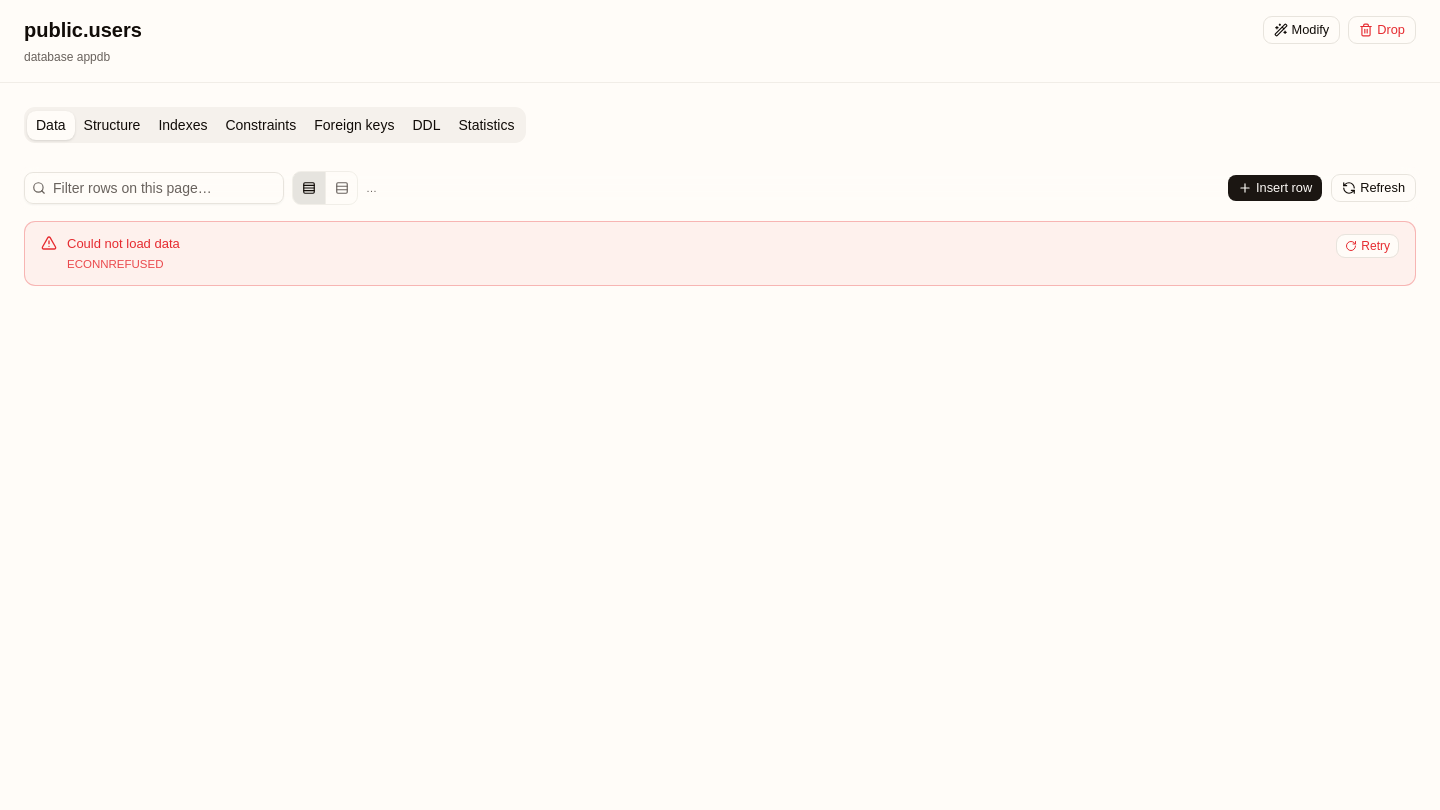
Test: postgres TableDetailClient (characterization) › applying a table modification after the data view failed re-fetches and clears the stale error
This screenshot has width=1440, height=810.
Expected: the message shows "Could not load data", [67,236,180,251]
Step 1. Click the button "Modify" → (1301, 30), box [1262,16,1340,44]
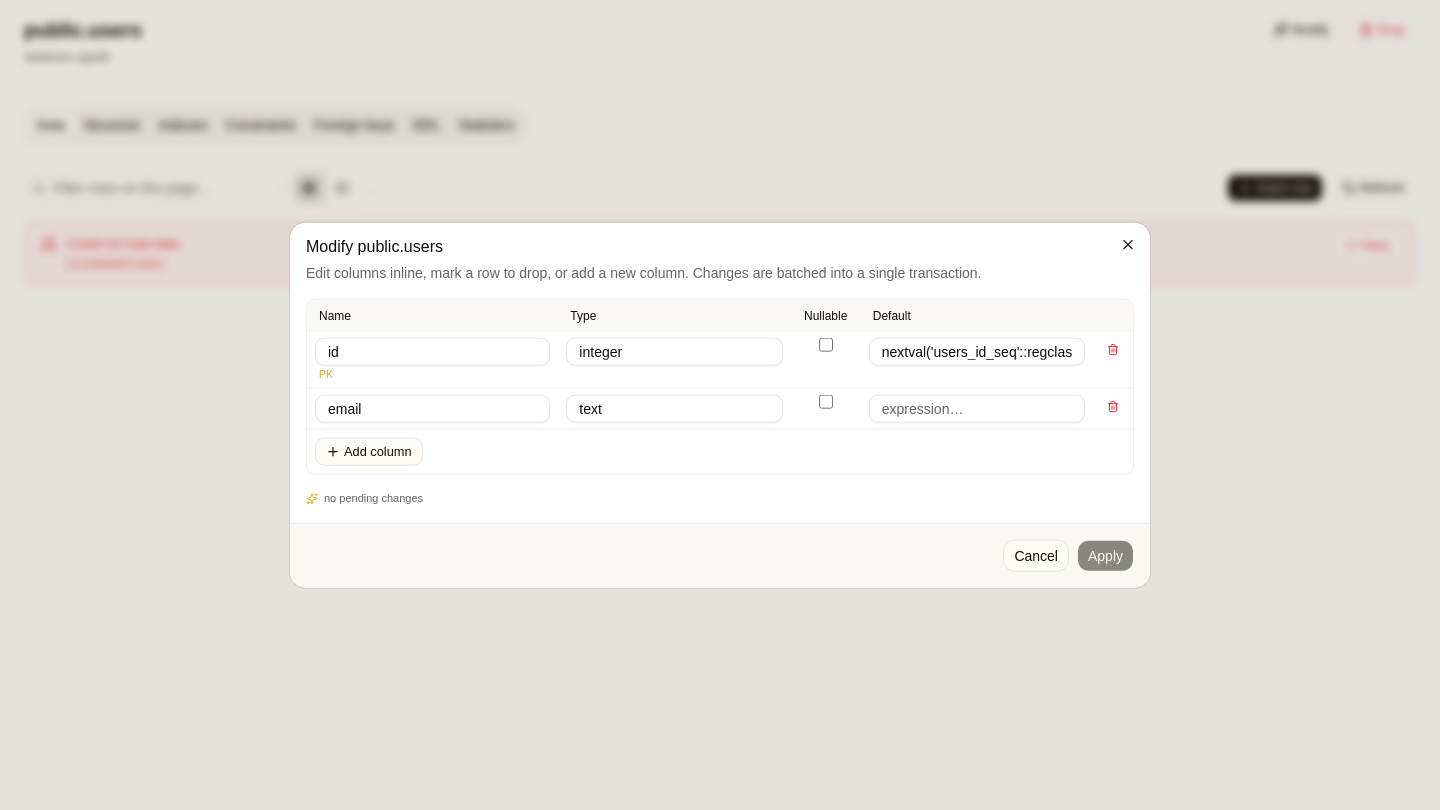
Step 2. Click the 2nd button titled "Drop column on apply" → (1113, 407), box [1101,395,1125,419]
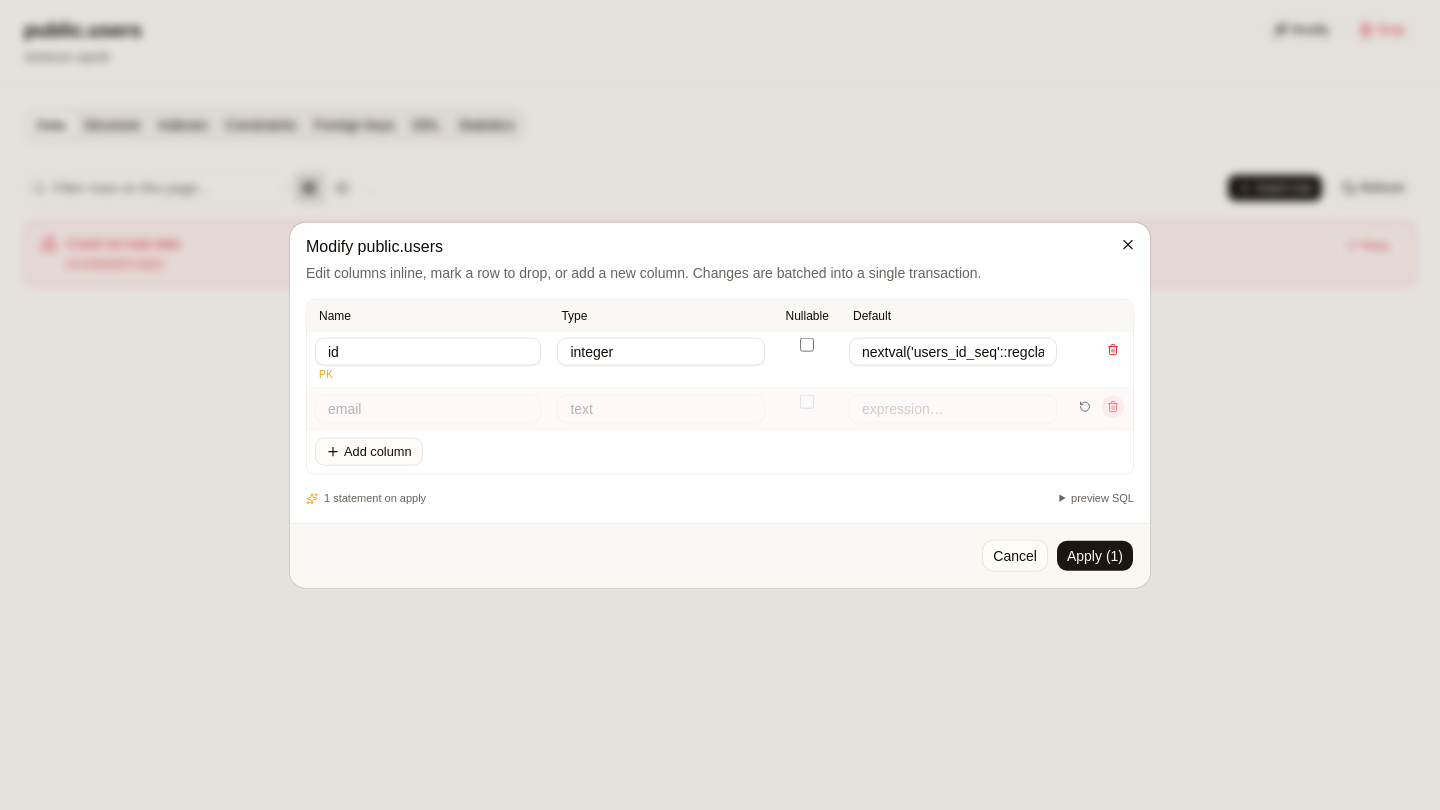
Step 3. Click the button "Apply (1)" → (1095, 555), box [1056,539,1134,571]
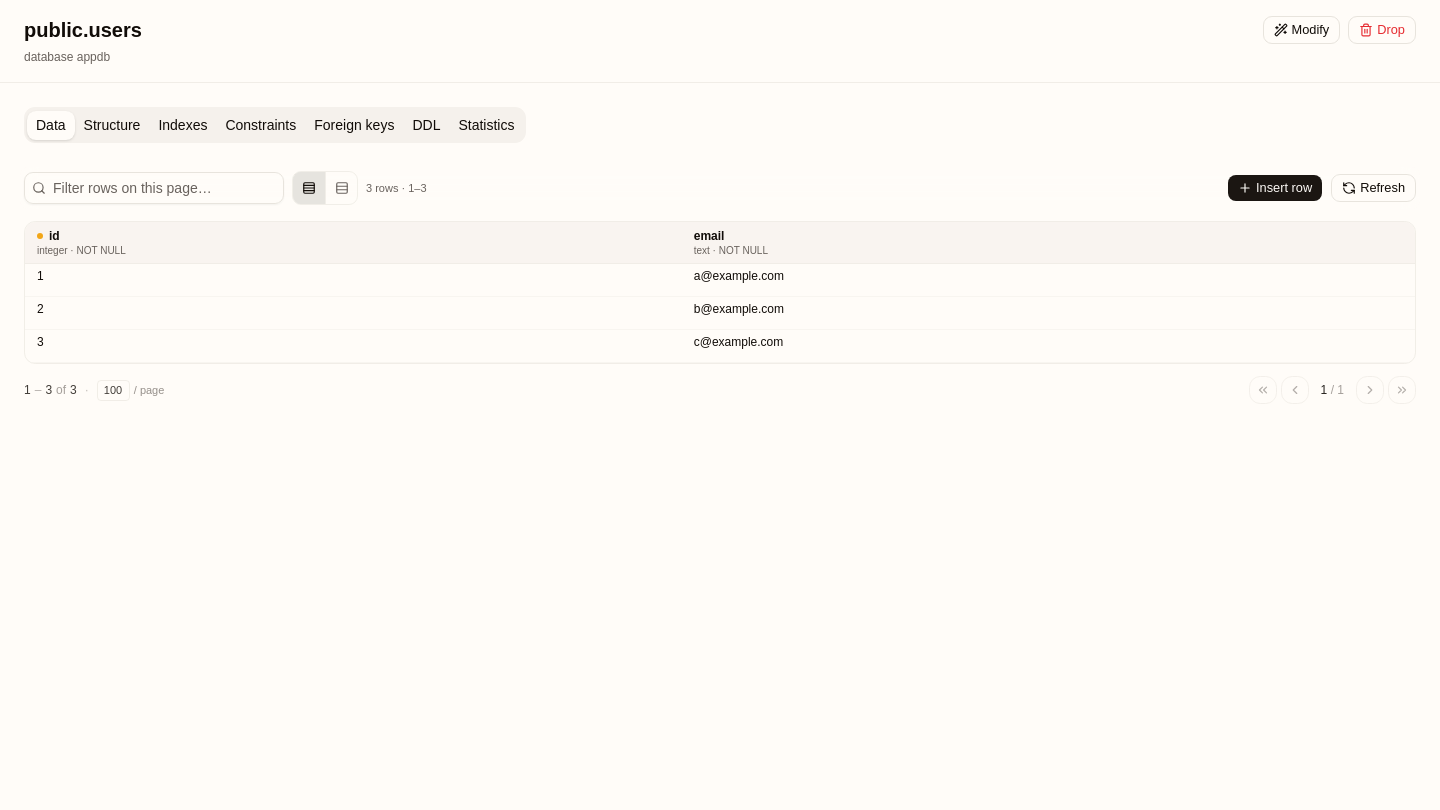
Now the text "c@example.com" is shown, box [682,330,1347,363]
Now the message "Could not load data ECONNREFUSED Retry" is gone
